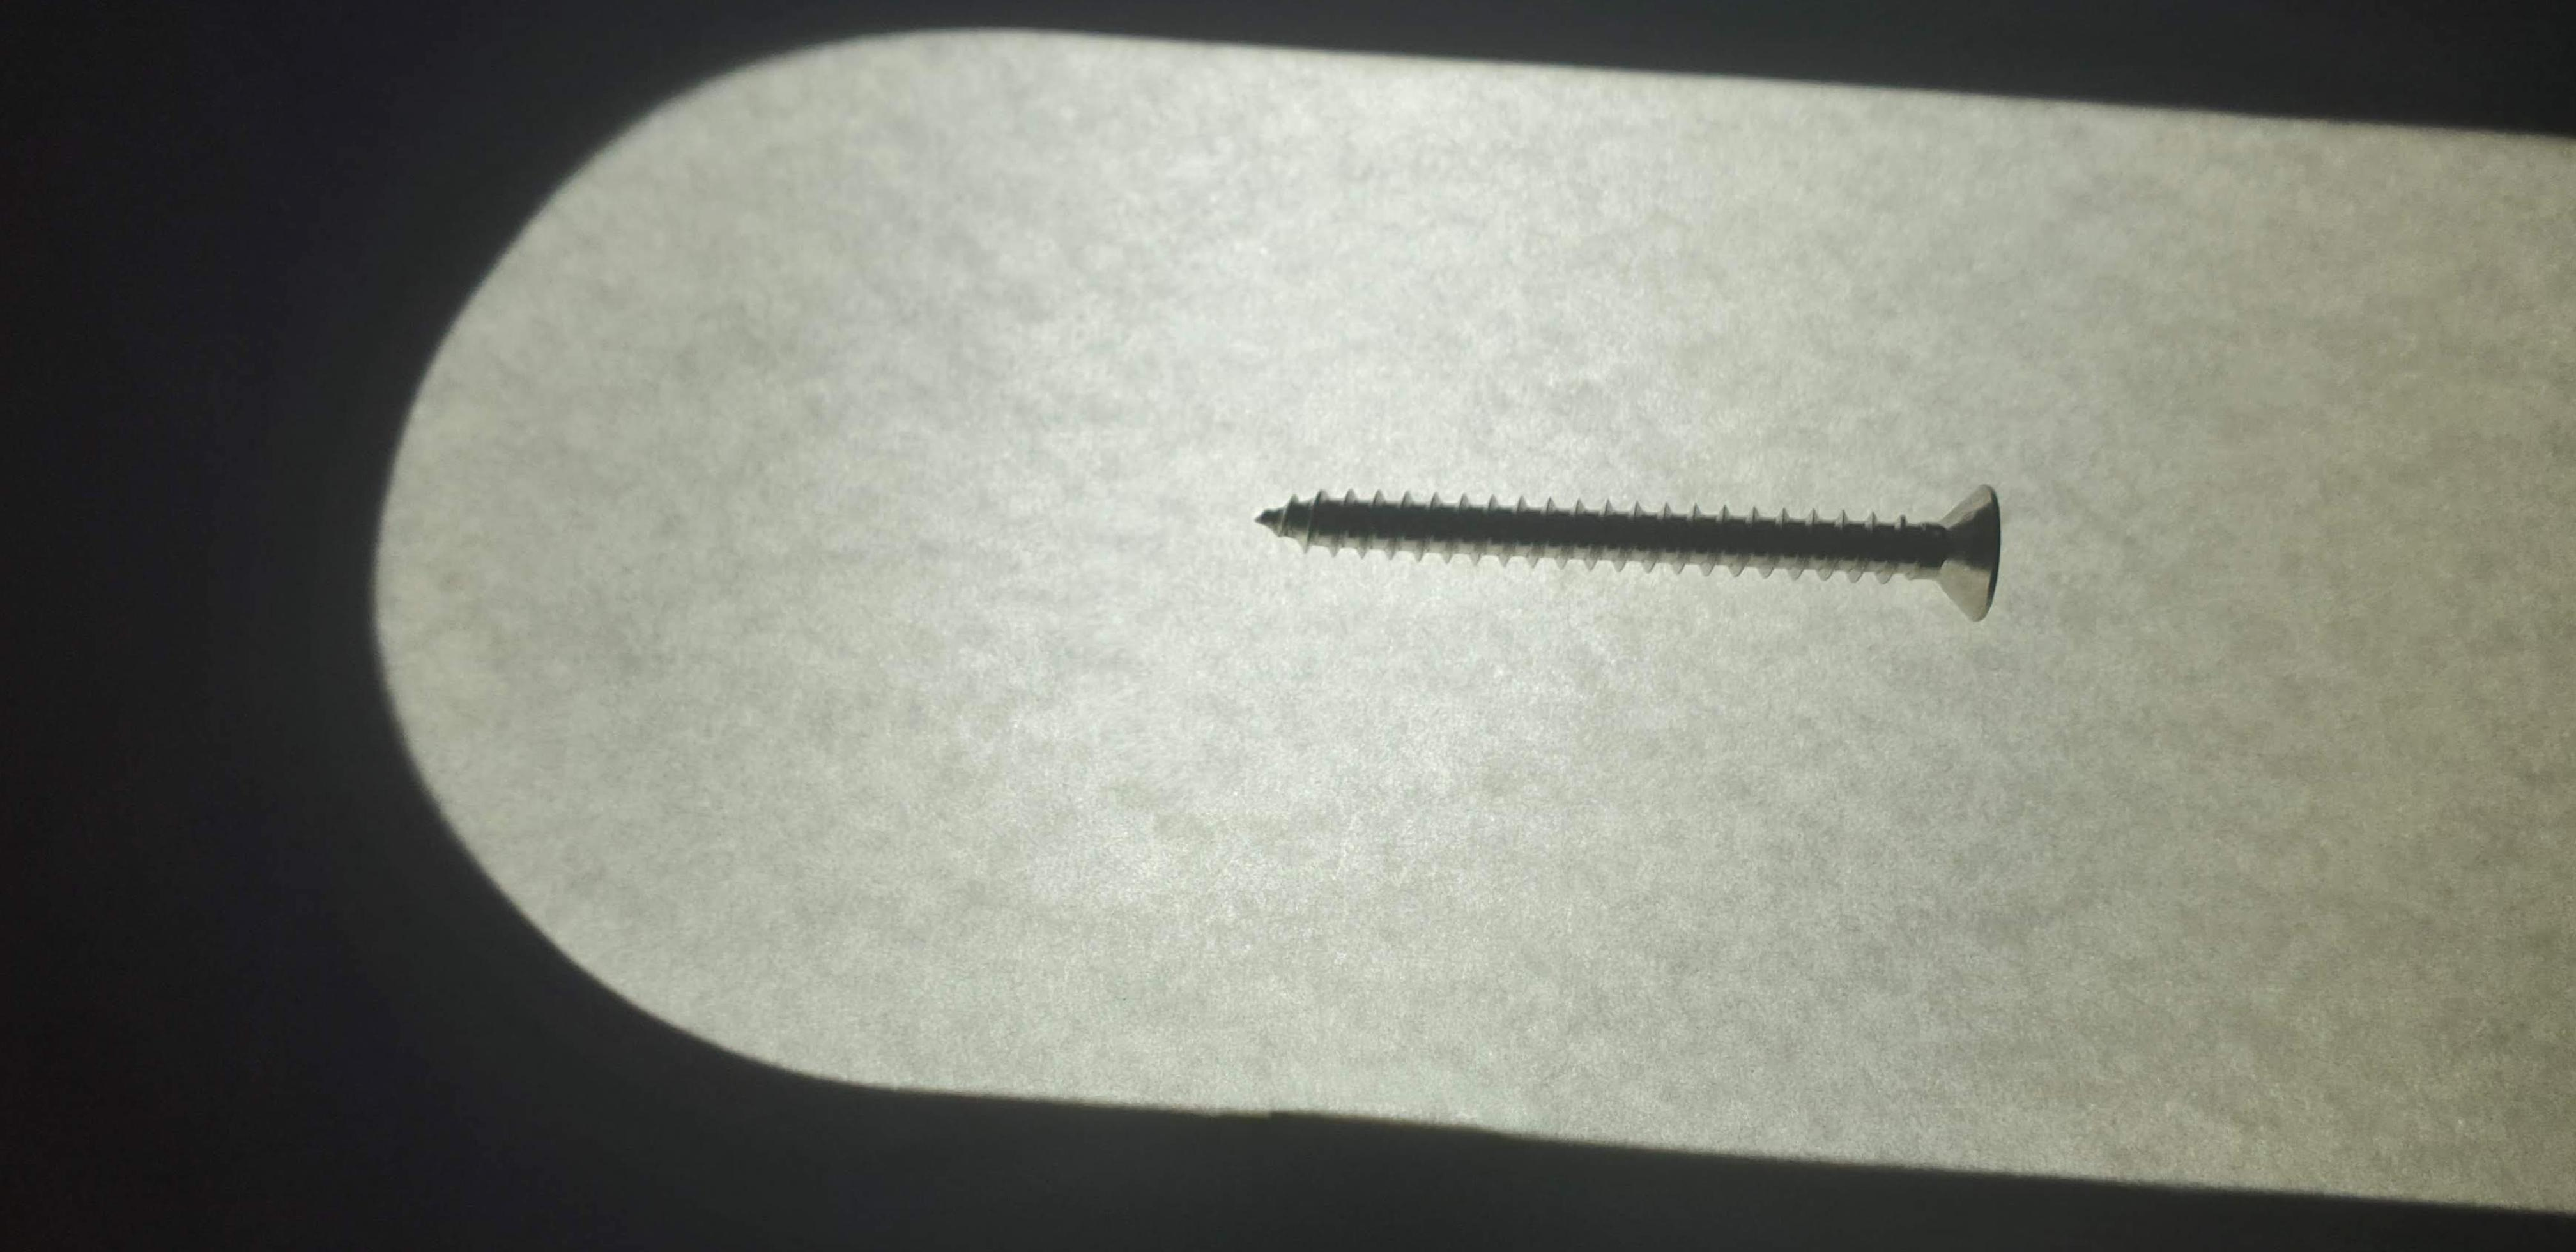S001: (1209, 412, 2068, 662)
